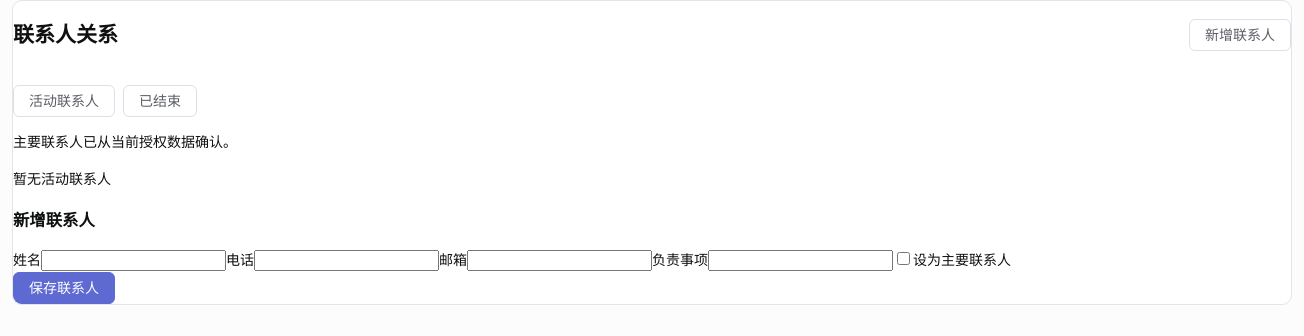
Test: CustomerContactsPanel › does not send a write when pending storage fails
Type "新增联系人" into the field labelled "姓名". click: x=134, y=261
box: [41,250,226,271]
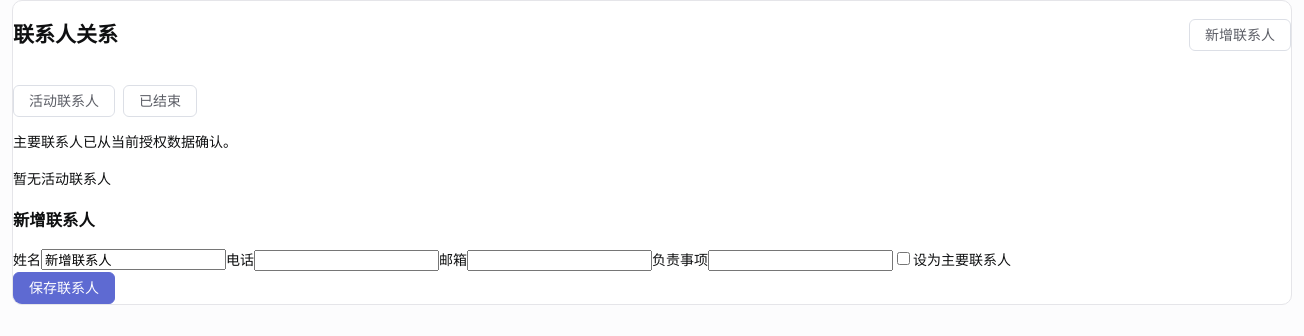
Type "13800138000" into the field labelled "电话". click: x=346, y=261
box: [254,250,439,271]
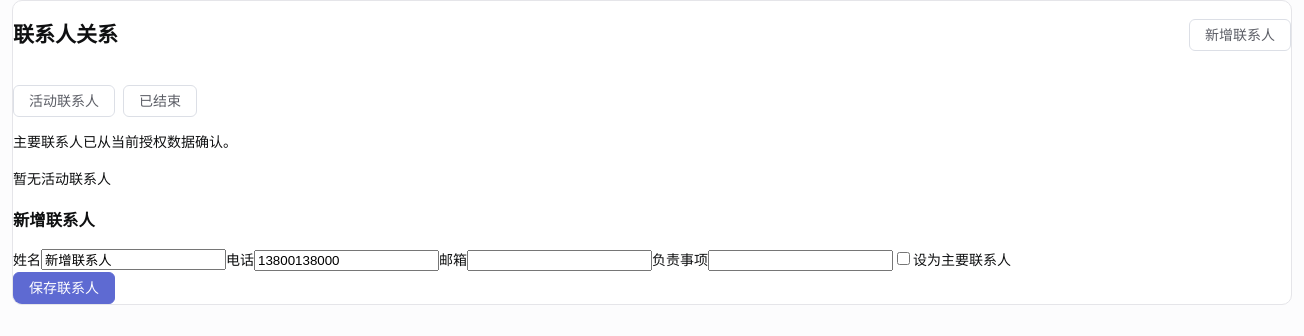
Submit the form, box [13,210,1011,304]
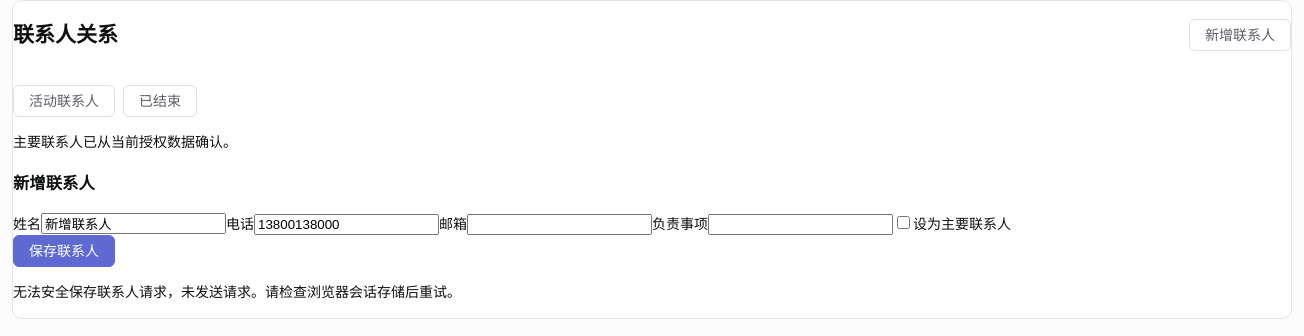
Result: the text "未发送请求" is shown at [13,283,461,300]
